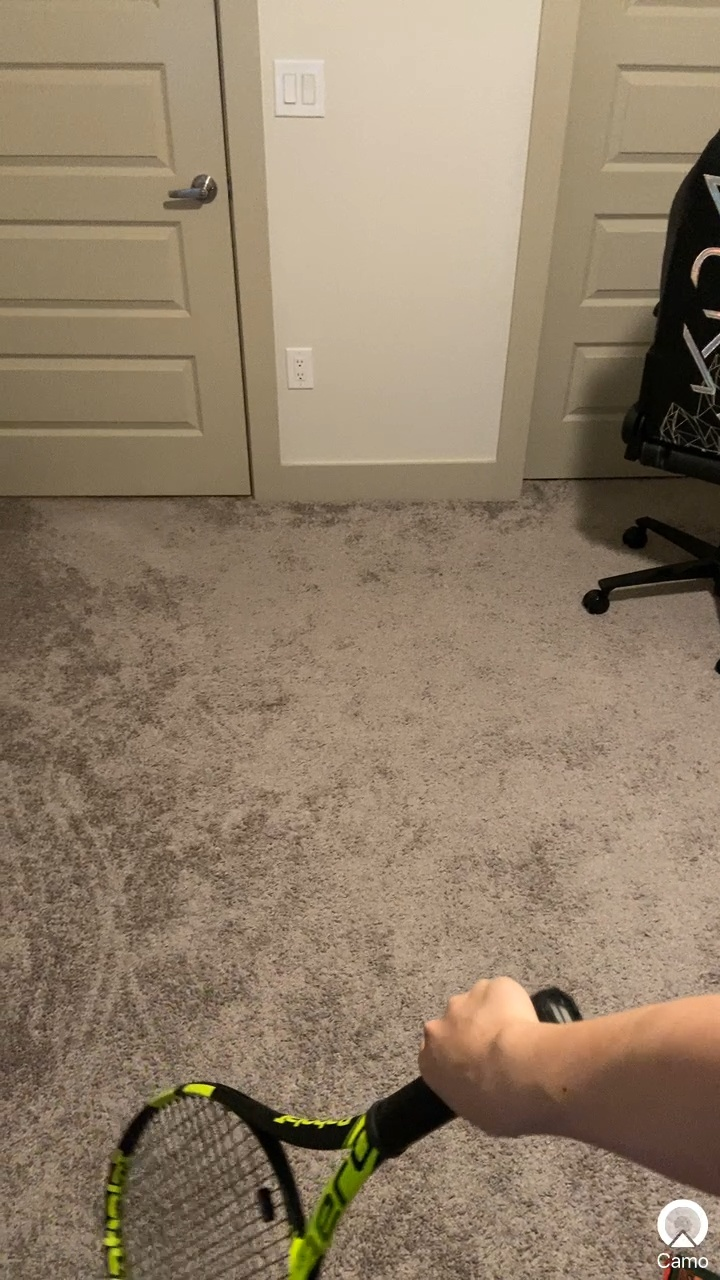Tennis_Racquet: (23, 937, 602, 1280)
